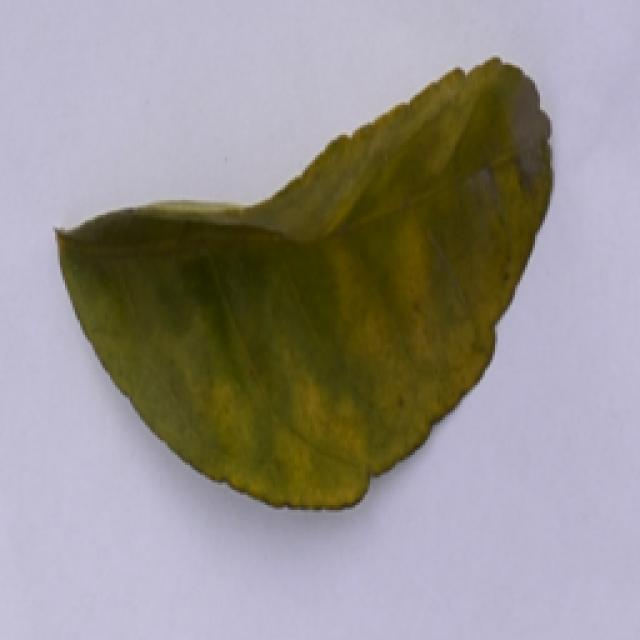greening: (43, 46, 561, 533)
